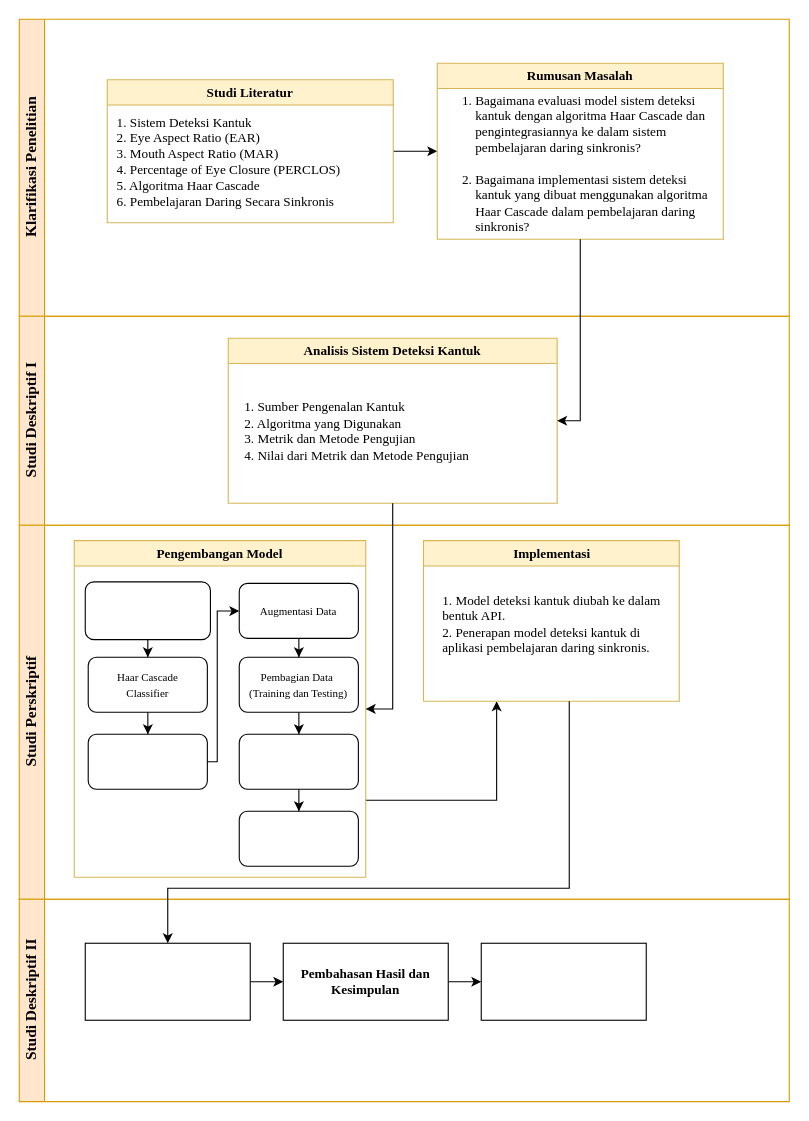
Some shapes in this 809 by 1121 pixel diagram are drawn without their labels. The centre of each missing label's shape, as x and y in pixels:
"Dokumentasi" belongs at point 563,981.
"Evaluasi Model" belongs at point 298,838.
"Pelatihan Model" belongs at point 298,761.
"Pengujian Performa Model Deteksi Kantuk Melibatkan Responden" belongs at point 167,981.
"Resampling" belongs at point 147,761.
"Yawn Dataset & Eyes Open or Closed Dataset" belongs at point 147,610.
